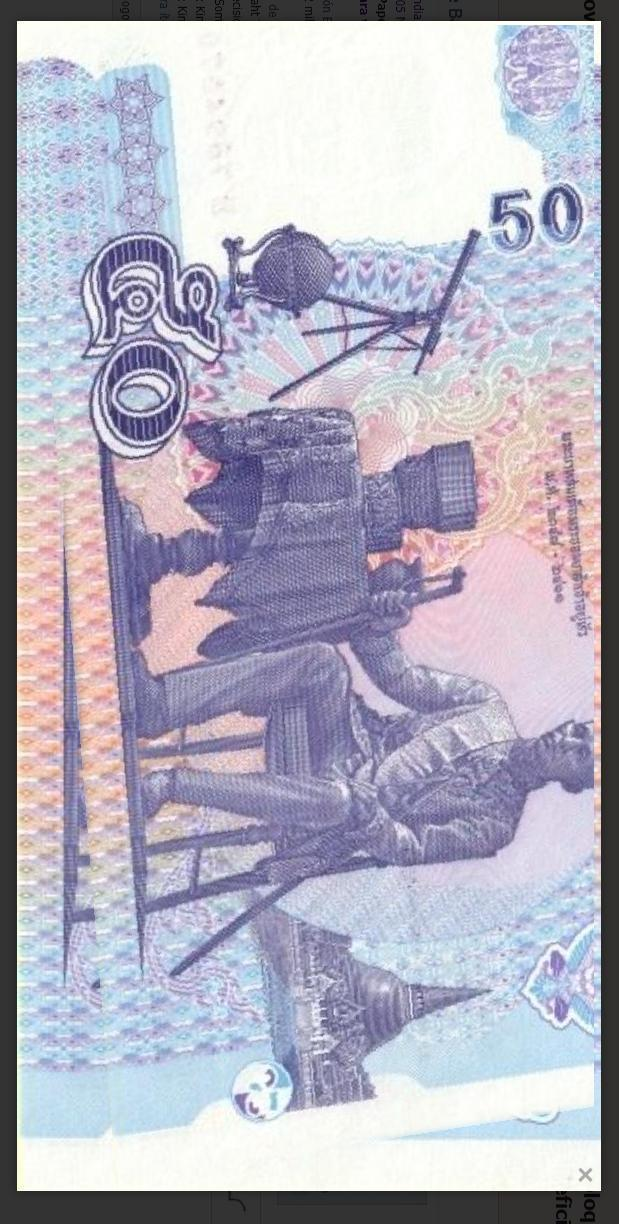50BahtTai: (22, 26, 594, 1182)
